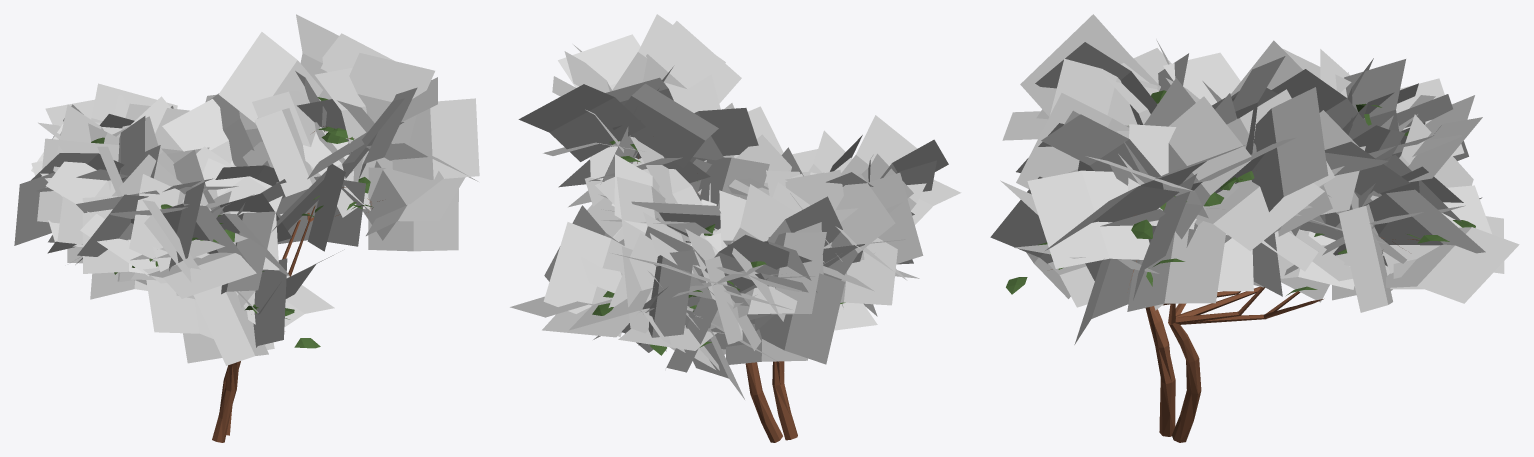
Rendered from Arbousier_Bifurque_LOD2.fbx.
3 renders of one model, left to right at view 1: azimuth 30°, elevation 25°; view 2: azimuth 150°, elevation 25°; view 3: azimuth 270°, elevation 25°, orthographic. The views are drawn at different scales.
Visible parts, largest first — view 1: Arbousier_Bifurque_LOD2; view 2: Arbousier_Bifurque_LOD2; view 3: Arbousier_Bifurque_LOD2.
Part boxes in pixels (x1,y1,x2,y2): Arbousier_Bifurque_LOD2: [14, 14, 479, 442]; Arbousier_Bifurque_LOD2: [510, 14, 961, 442]; Arbousier_Bifurque_LOD2: [990, 14, 1519, 442].
Bounding box in the file's own units: 411 × 378 × 418.
